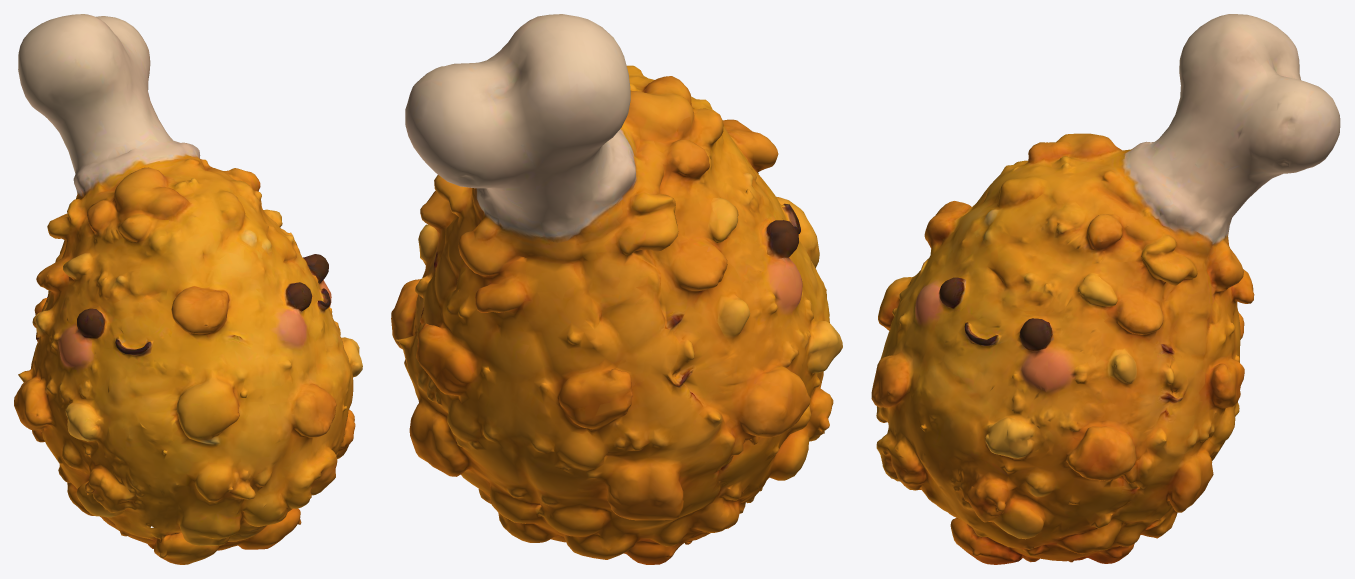
The model's file is keepsake-fried-chicken-plush.glb.
3 views of the same model, side by side, from view 1: azimuth 30°, elevation 25°; view 2: azimuth 150°, elevation 25°; view 3: azimuth 270°, elevation 25° (orthographic). The views are drawn at different scales.
Visible parts, largest first — view 1: tripo_node_9fa60e4a-5984-494f-ac79-fee23375be0b; view 2: tripo_node_9fa60e4a-5984-494f-ac79-fee23375be0b; view 3: tripo_node_9fa60e4a-5984-494f-ac79-fee23375be0b.
Part boxes in pixels (x1,y1,x2,y2): tripo_node_9fa60e4a-5984-494f-ac79-fee23375be0b: (14,14,362,564); tripo_node_9fa60e4a-5984-494f-ac79-fee23375be0b: (391,14,842,564); tripo_node_9fa60e4a-5984-494f-ac79-fee23375be0b: (871,14,1340,564).
Size of the model in its own units: 0.6751 by 0.9753 by 0.8144.
1 material, 1 textured.
